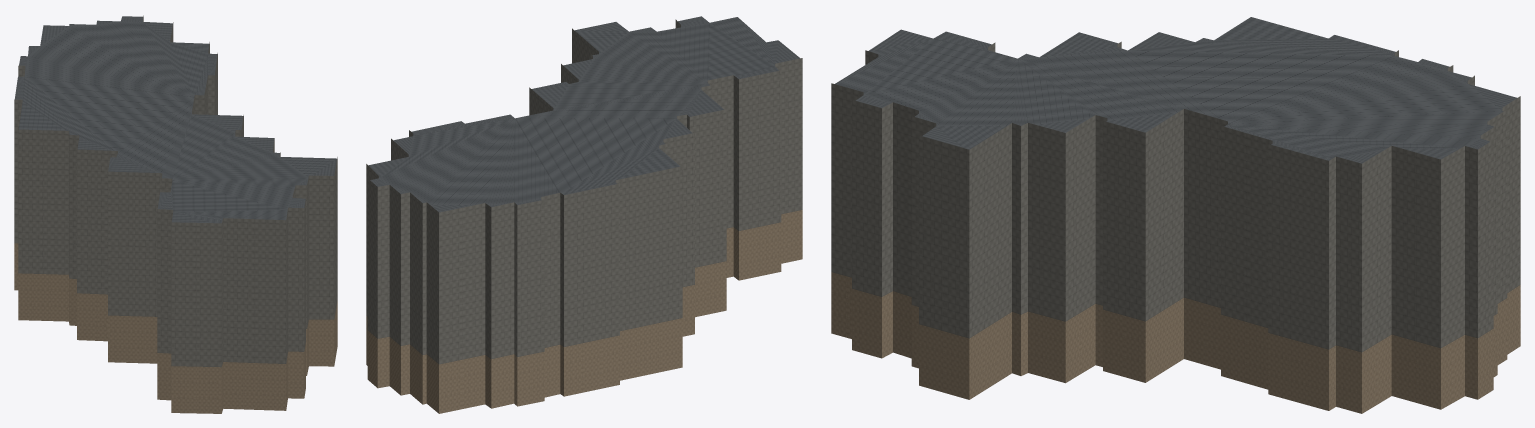
Rendered from bld_c1_-3_557.gltf.
3 views of the same model, side by side, from view 1: azimuth 30°, elevation 25°; view 2: azimuth 150°, elevation 25°; view 3: azimuth 270°, elevation 25° (orthographic). The views are drawn at different scales.
Visible parts, largest first — view 1: bld_c1_-3_557; view 2: bld_c1_-3_557; view 3: bld_c1_-3_557.
Boxes of the visible parts, x1,y1,x2,y2 form: bld_c1_-3_557: (14, 15, 337, 413); bld_c1_-3_557: (366, 16, 802, 413); bld_c1_-3_557: (831, 17, 1520, 413).
Size of the model in its own units: 26.66 by 20.78 by 51.89.
Materials: 4 (4 with a texture image).
